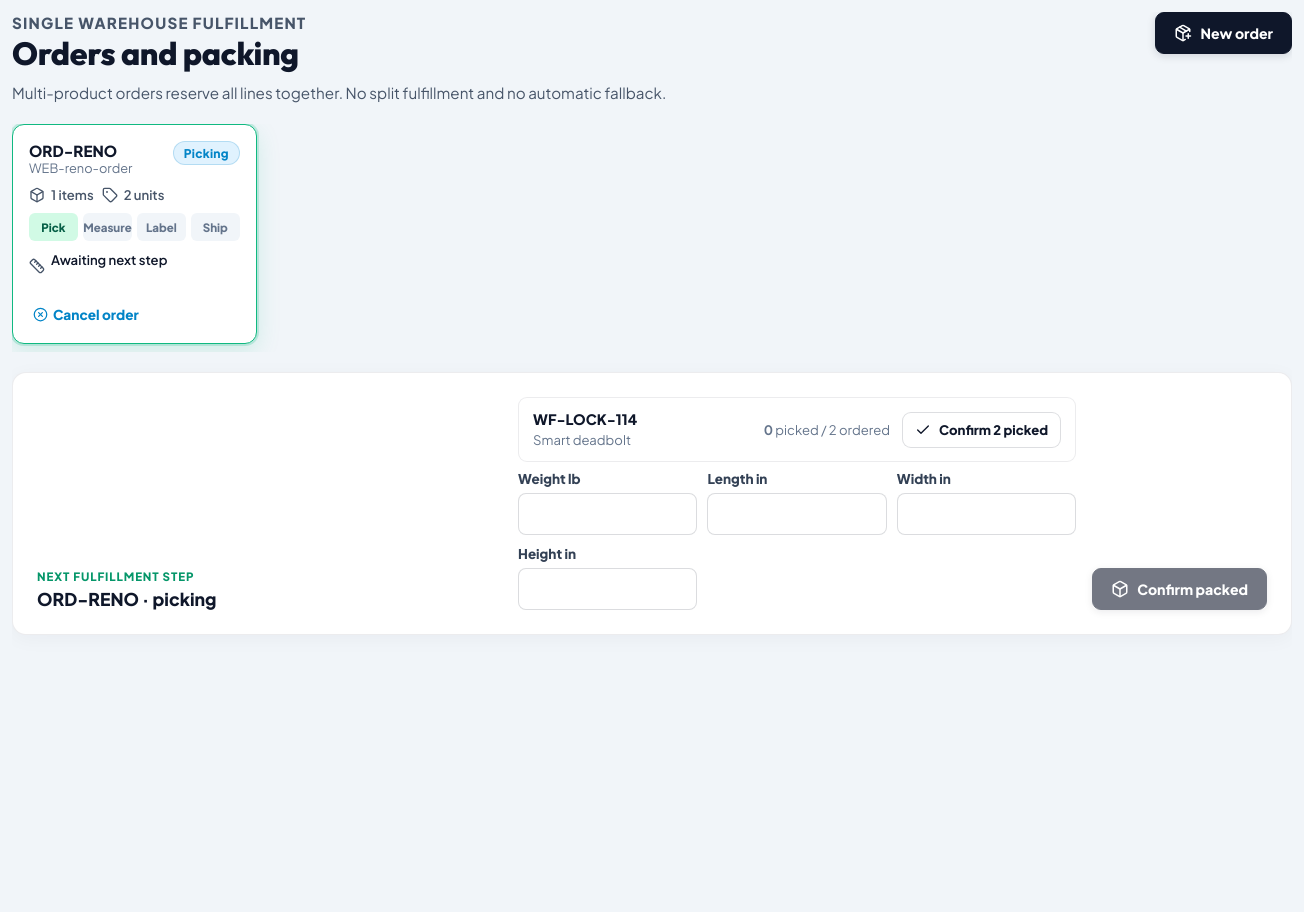
Scenario: OrdersPage picking safety › confirms every picked line before enabling packing
Check: the button "Confirm packed" is disabled, box [1092,568,1267,610]
Check: the element named "Picking checklist" shows "0 picked / 2 ordered", box [518,397,1076,462]
Click the button "Confirm 2 picked": point(982, 430) [902,412,1061,448]
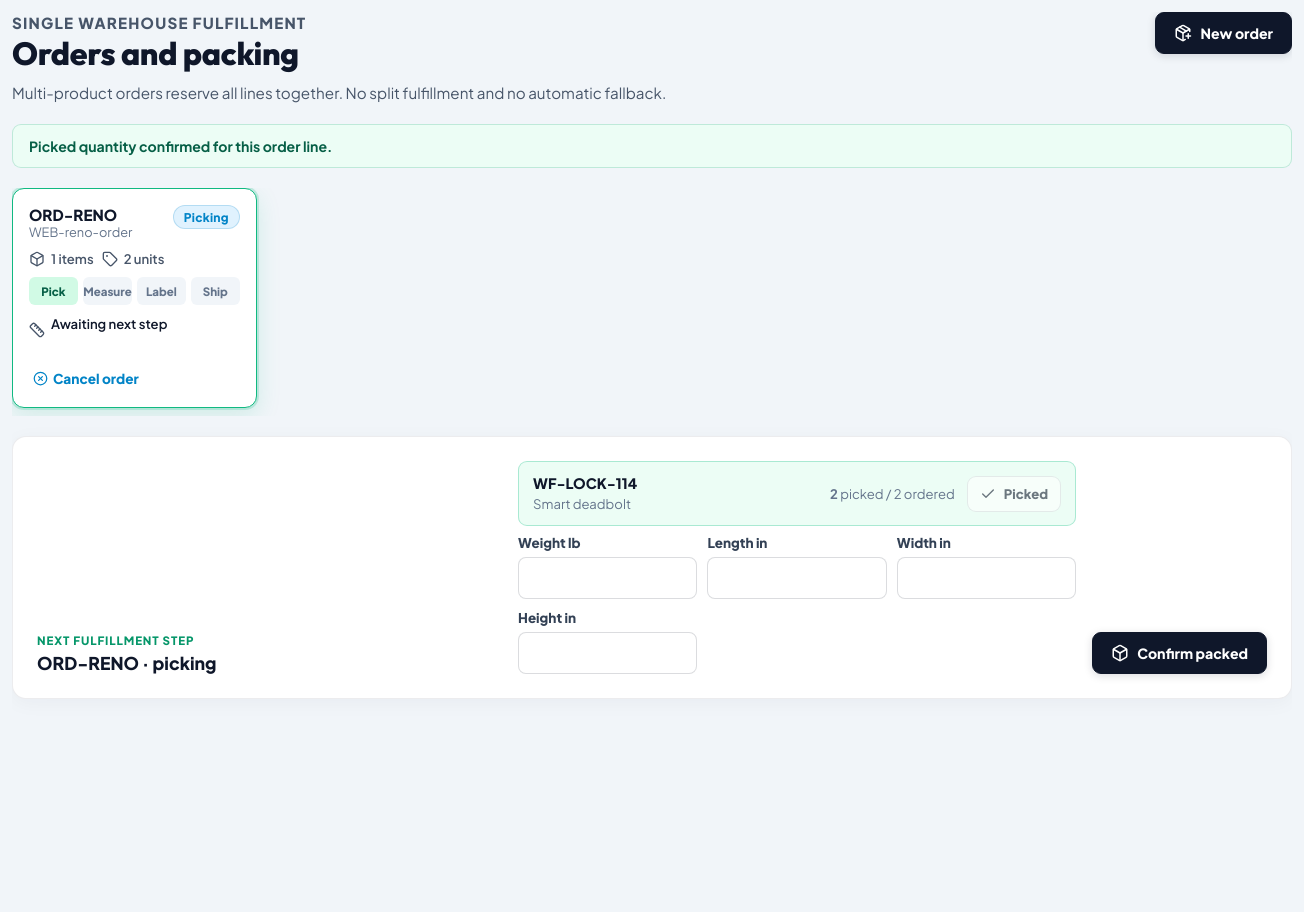
Check: the button "Confirm packed" is enabled, box [1092,632,1267,674]
Check: the element named "Picking checklist" shows "2 picked / 2 ordered", box [518,461,1076,526]
